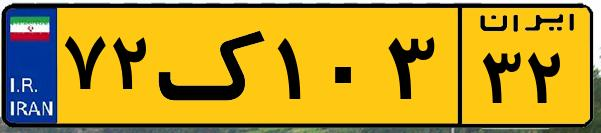0: (330, 28, 385, 110)
1: (270, 28, 330, 110)
2: (525, 38, 570, 115), (110, 28, 158, 98)
3: (385, 28, 445, 110), (475, 38, 525, 113)
7: (57, 26, 110, 100)
ک: (158, 12, 270, 120)
